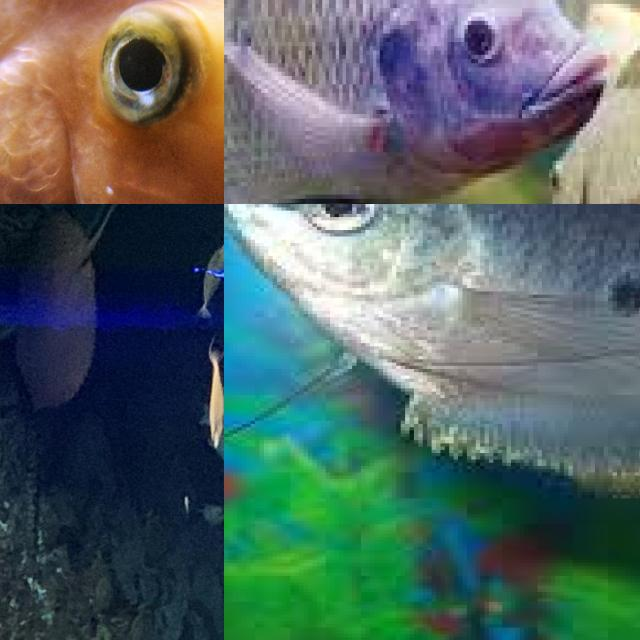fish: (224, 204, 640, 501), (224, 0, 640, 204), (0, 0, 224, 204)
